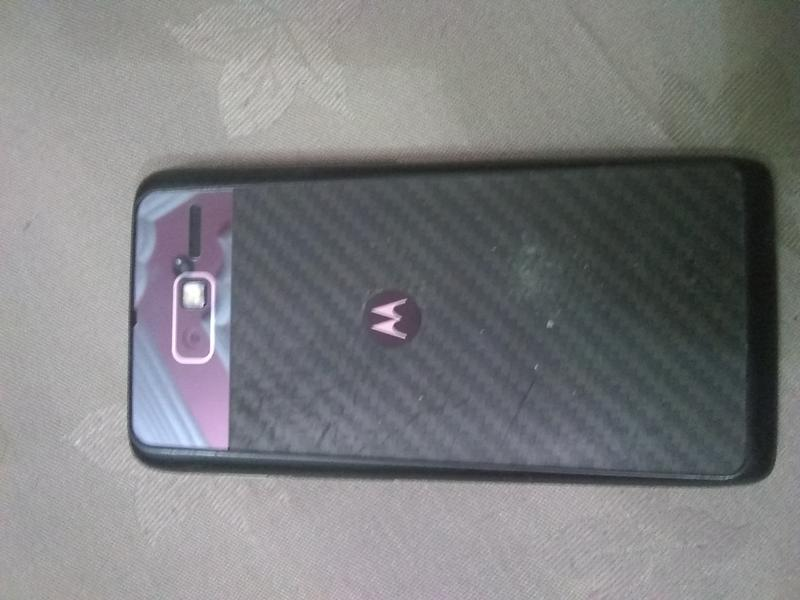moto: (117, 155, 782, 487)
